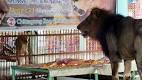lion: (75, 6, 142, 76)
